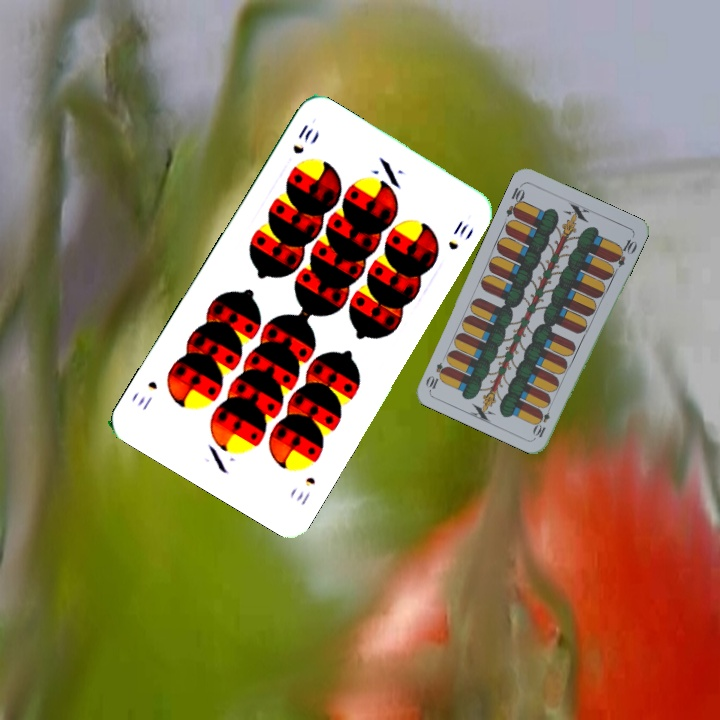E10: (502, 180, 528, 220), (530, 400, 554, 440)
S10: (288, 120, 316, 157), (291, 472, 319, 508)
